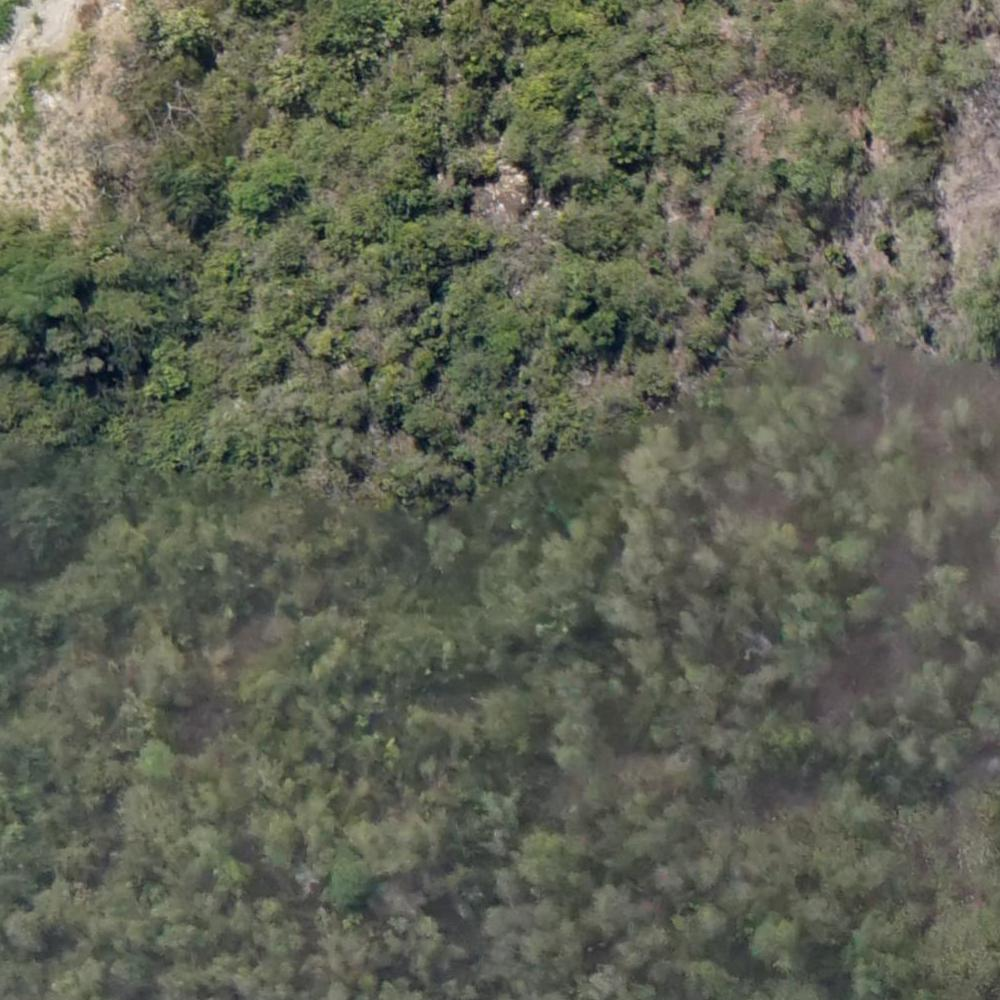tree: (630, 433, 697, 507), (624, 509, 696, 577), (875, 74, 941, 148), (299, 610, 363, 676), (560, 196, 627, 256), (889, 220, 946, 288), (537, 540, 602, 599), (797, 104, 859, 165), (664, 98, 727, 156), (154, 158, 210, 223), (516, 834, 575, 892), (137, 648, 196, 705), (481, 691, 534, 754), (548, 719, 605, 776), (592, 259, 651, 312), (508, 108, 563, 163), (241, 161, 297, 213), (754, 917, 805, 973), (256, 278, 307, 332), (271, 52, 326, 101), (827, 533, 876, 585), (434, 212, 489, 258), (404, 397, 461, 439), (258, 818, 308, 863), (424, 521, 467, 571), (327, 857, 371, 902), (136, 737, 175, 783), (153, 357, 193, 396), (344, 197, 379, 237), (781, 219, 814, 253), (822, 241, 848, 270)
